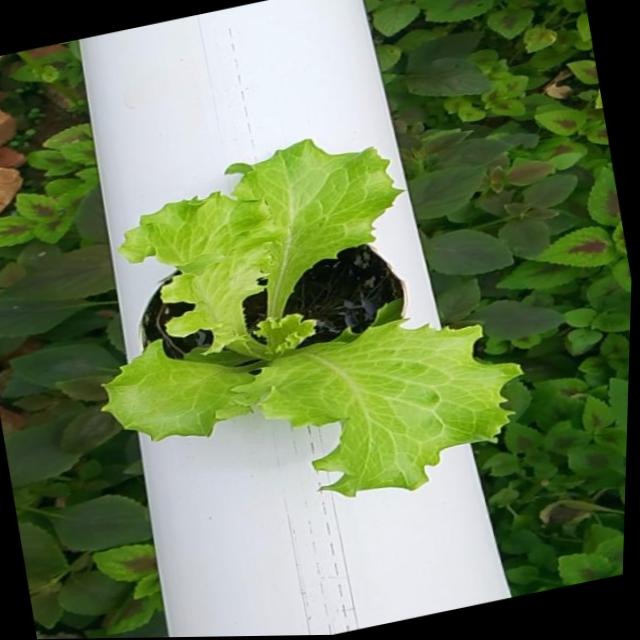Baby: (87, 149, 498, 499)
